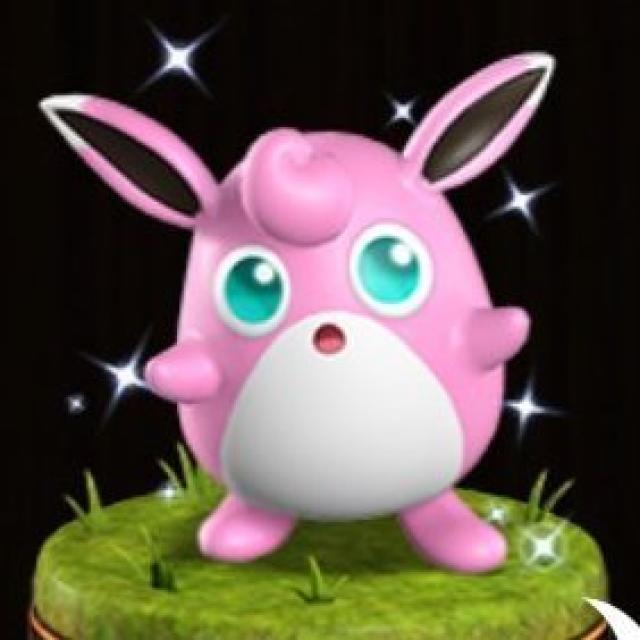Wigglytuff: (116, 101, 560, 567)
